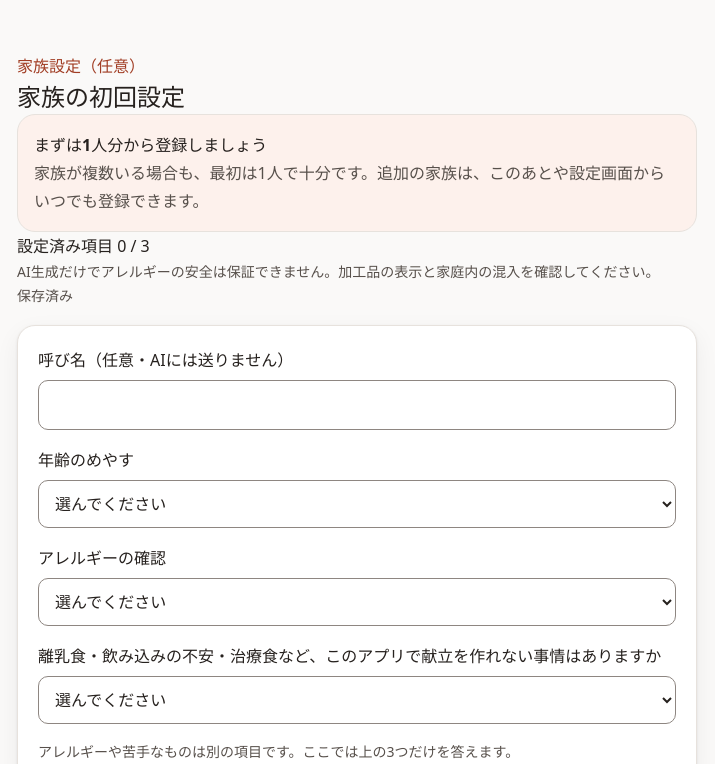
Test: completes member without setProgress or navigate, then shows next-action screen
Expected: the text "設定済み項目 0 / 3" is shown, [17,235,150,257]
Select "大人" in the dropdown labelled "年齢のめやす". click: (357, 504)
box: [38,480,676,528]
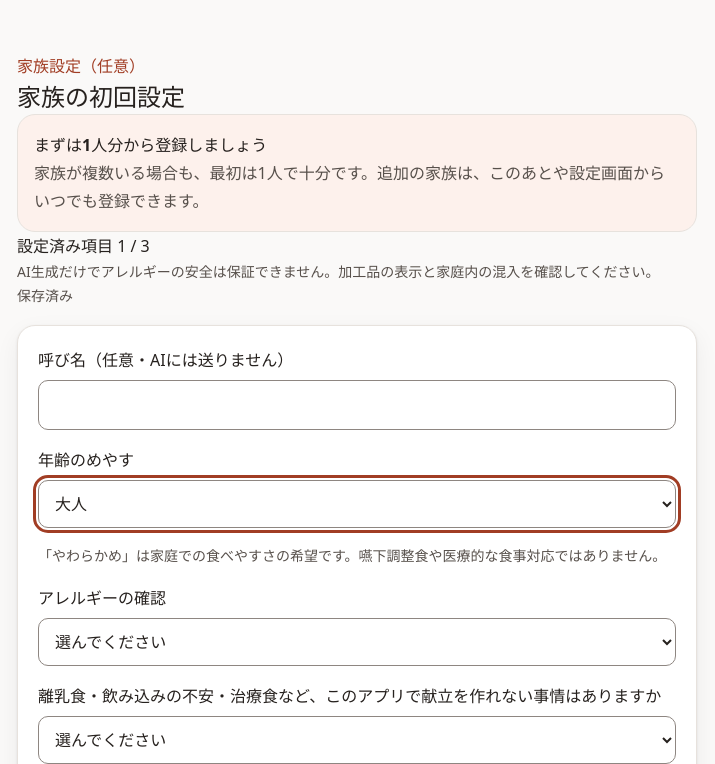
Select "なし" in the dropdown labelled "アレルギーの確認". click: (357, 642)
box: [38,618,676,666]
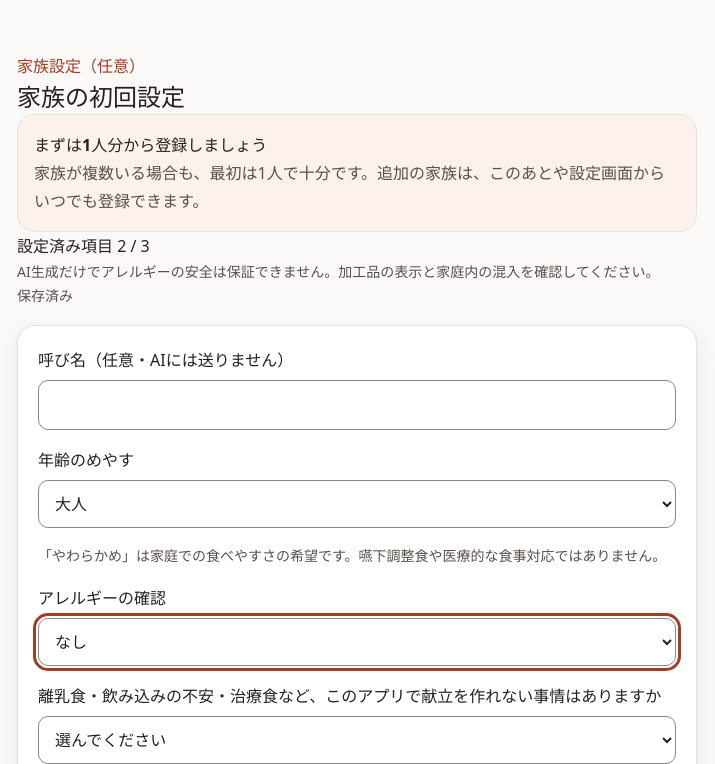
Select "該当なし" in the dropdown labelled "離乳食・飲み込みの不安・治療食など、このアプリで献立を作れない事情はありますか". click: (357, 740)
box: [38,716,676,763]
(page scrolled)
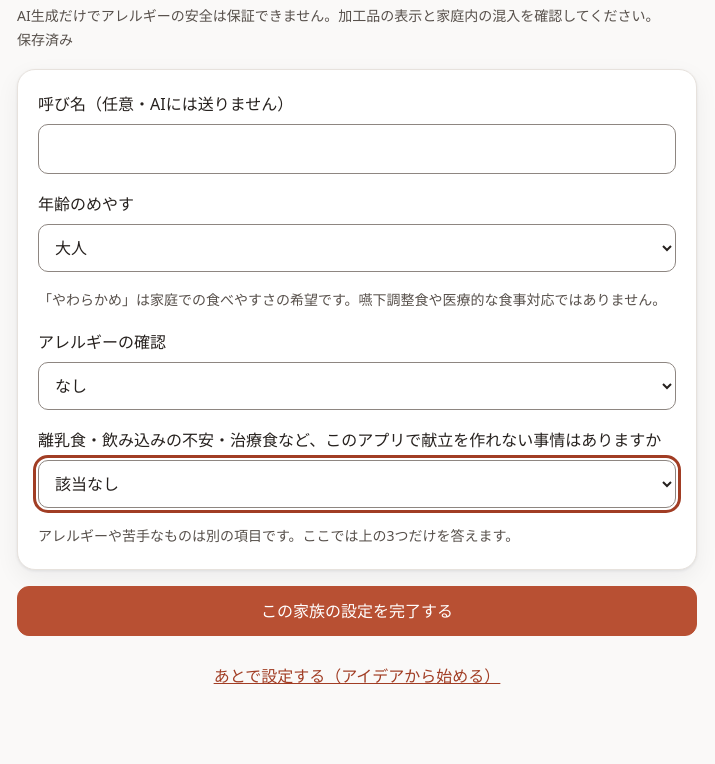
Click the button "この家族の設定を完了する". click: (357, 611)
box: [17,586,697,636]
(page scrolled)
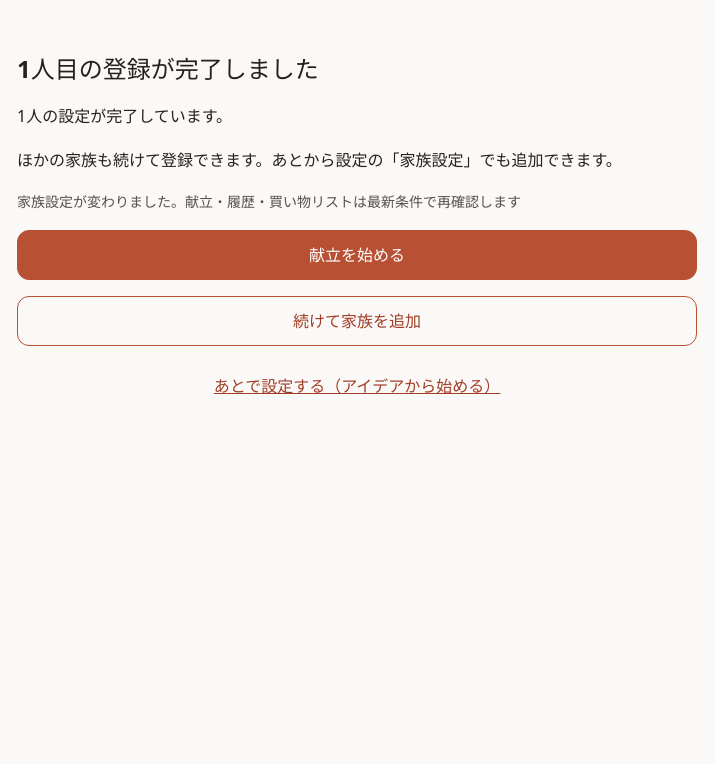
Result: the heading "1人目の登録が完了しました" is shown at [17,52,319,85]
Result: the text "1人の設定が完了しています。" is shown at [17,105,232,127]
Result: the button "献立を始める" is shown at [17,230,697,280]
